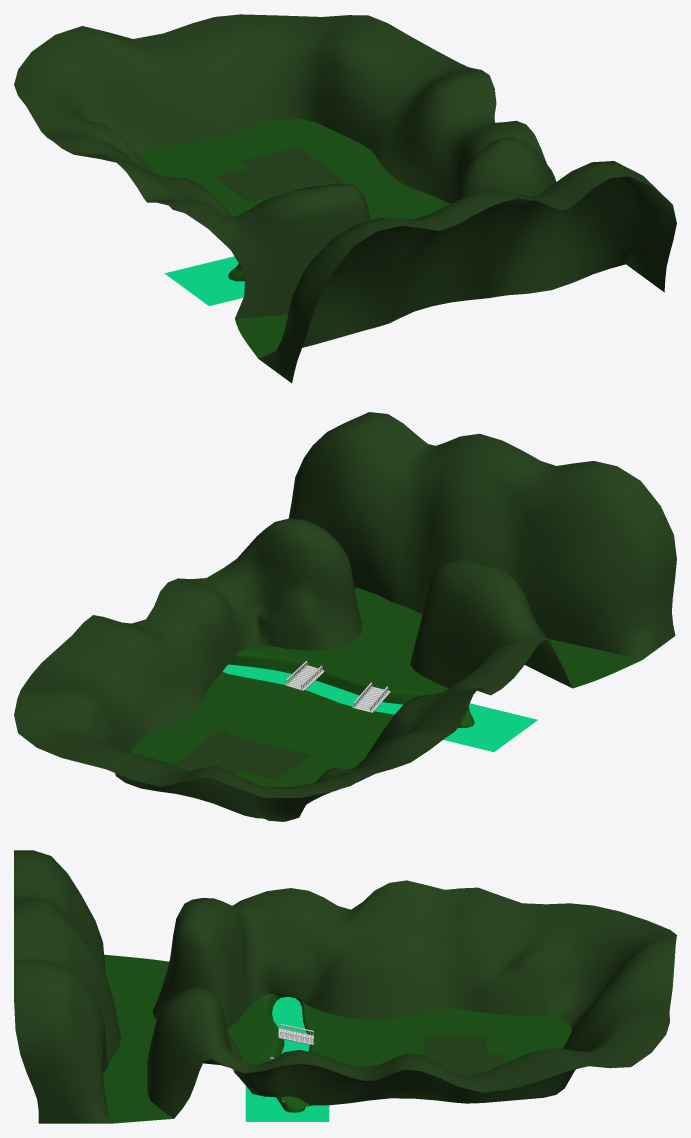
File: slime_factry_world.FBX
3 renders of one model, top to bottom at view 1: azimuth 30°, elevation 25°; view 2: azimuth 150°, elevation 25°; view 3: azimuth 270°, elevation 25°, orthographic. The views are drawn at different scales.
Parts seen in each view (by area): view 1: slimefactry_world; view 2: slimefactry_world, hasi2, hasi1; view 3: slimefactry_world, hasi1.
Part boxes in pixels (left/top/right/bottom): slimefactry_world: left=14, top=14, right=676, bottom=383; slimefactry_world: left=14, top=412, right=676, bottom=821; hasi2: left=285, top=661, right=324, bottom=690; hasi1: left=352, top=682, right=390, bottom=712; slimefactry_world: left=14, top=850, right=676, bottom=1123; hasi1: left=278, top=1024, right=313, bottom=1044.
Bounding box in the file's own units: 18934 × 7158 × 28666.
